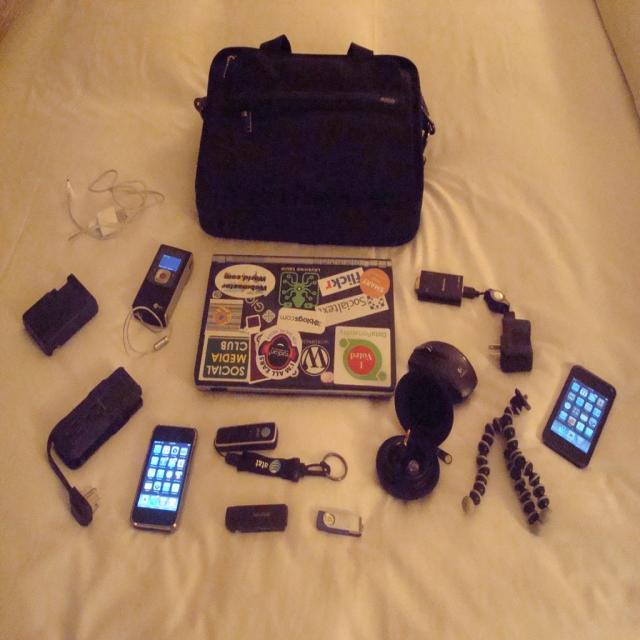Mobile-phone: (544, 360, 616, 486), (132, 423, 202, 531)
